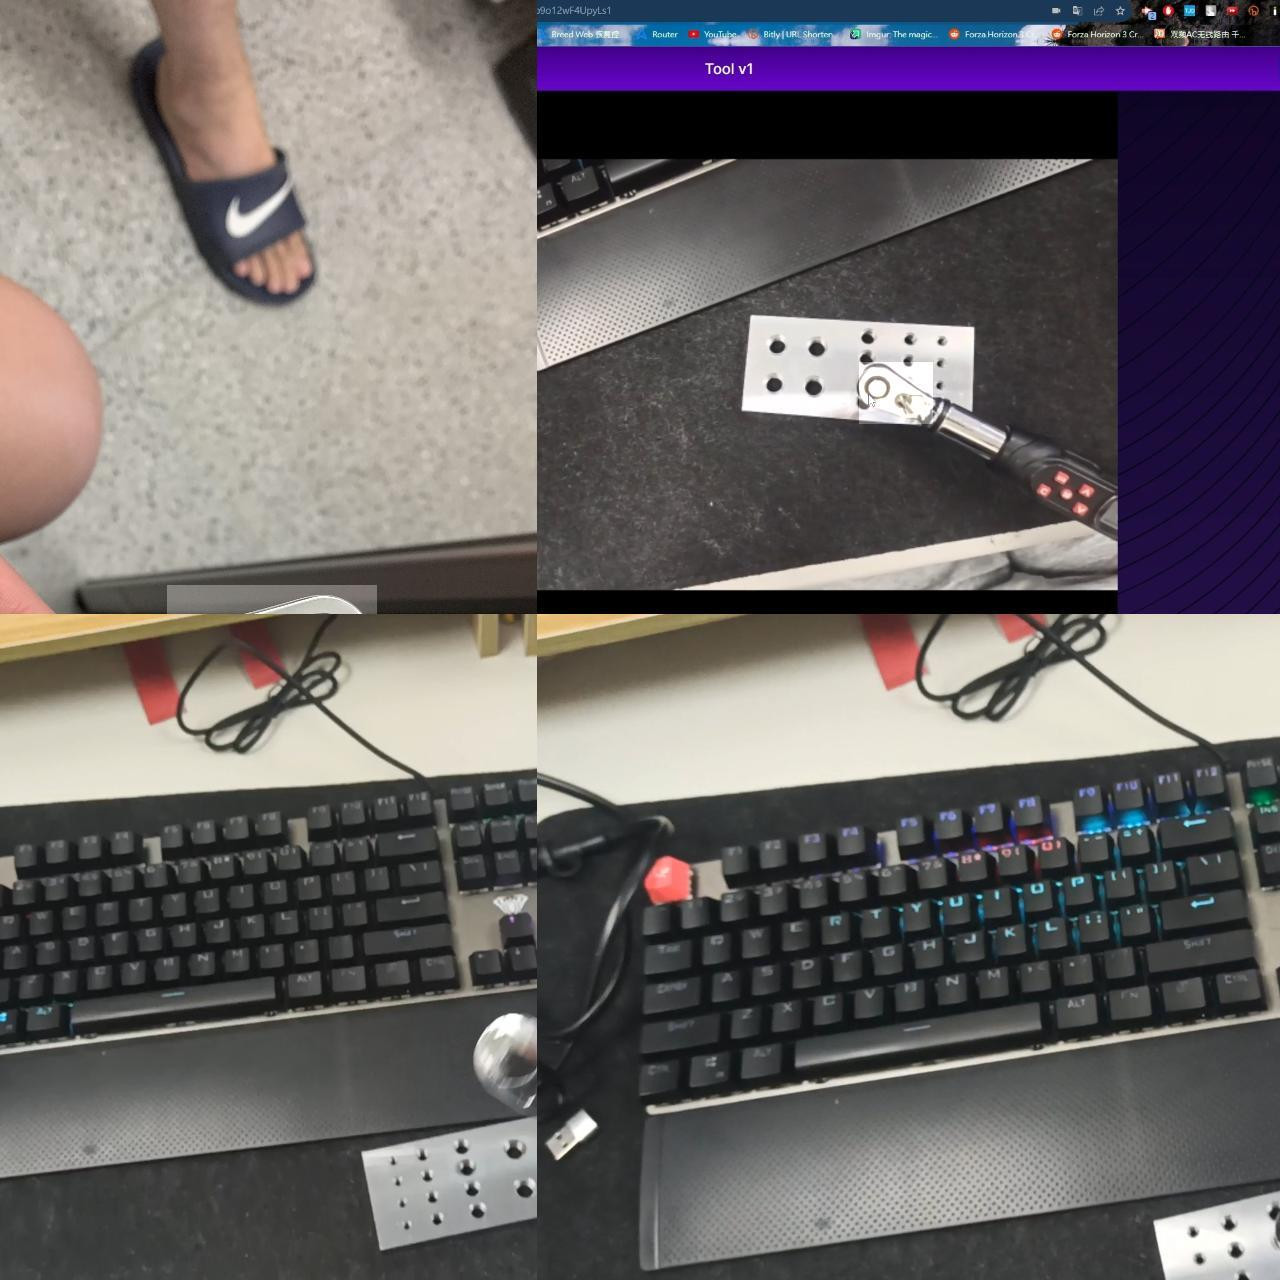Tool: (166, 585, 377, 614), (859, 362, 933, 424)
hole: (511, 1177, 539, 1212), (761, 331, 785, 360), (501, 1135, 530, 1159), (857, 324, 881, 349), (809, 332, 831, 360), (802, 374, 826, 399), (465, 1198, 489, 1223), (764, 372, 785, 396), (464, 1178, 486, 1199), (455, 1162, 483, 1177), (898, 333, 921, 348), (429, 1210, 444, 1231), (452, 1139, 470, 1157), (859, 350, 878, 367), (935, 336, 948, 352), (935, 359, 945, 370), (935, 382, 945, 393), (905, 355, 912, 367)
